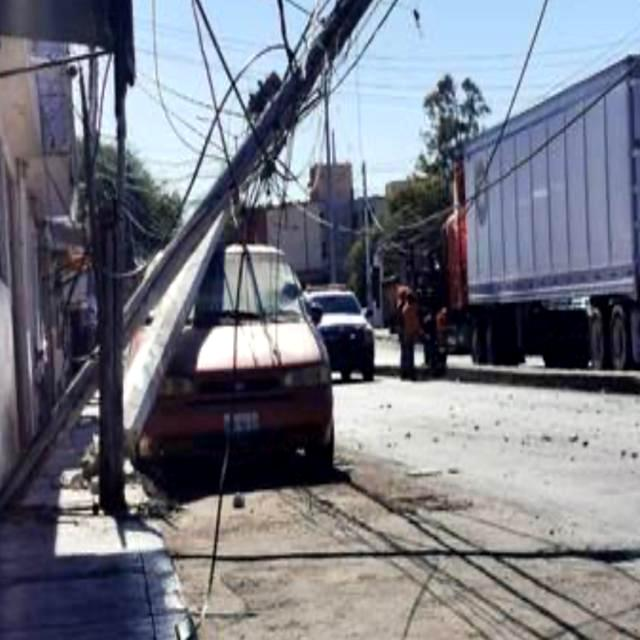Broken Pole: (0, 0, 373, 515), (117, 212, 224, 449)
